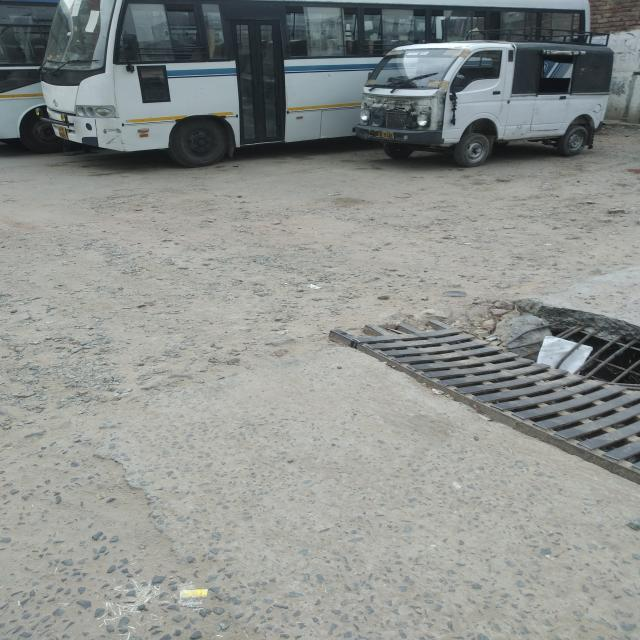Car: (358, 41, 613, 166)
